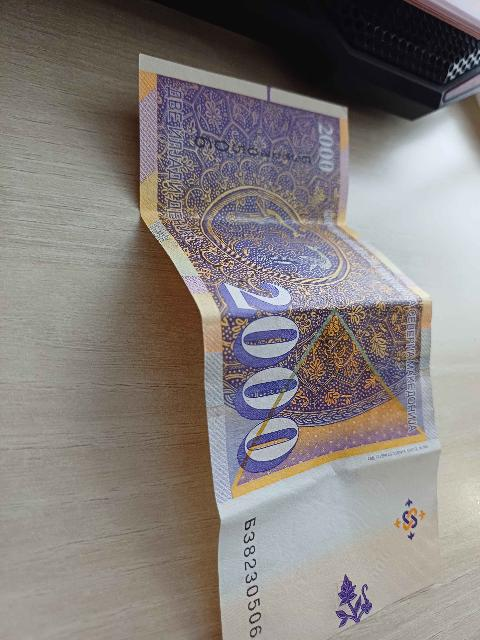note: (132, 57, 458, 639)
